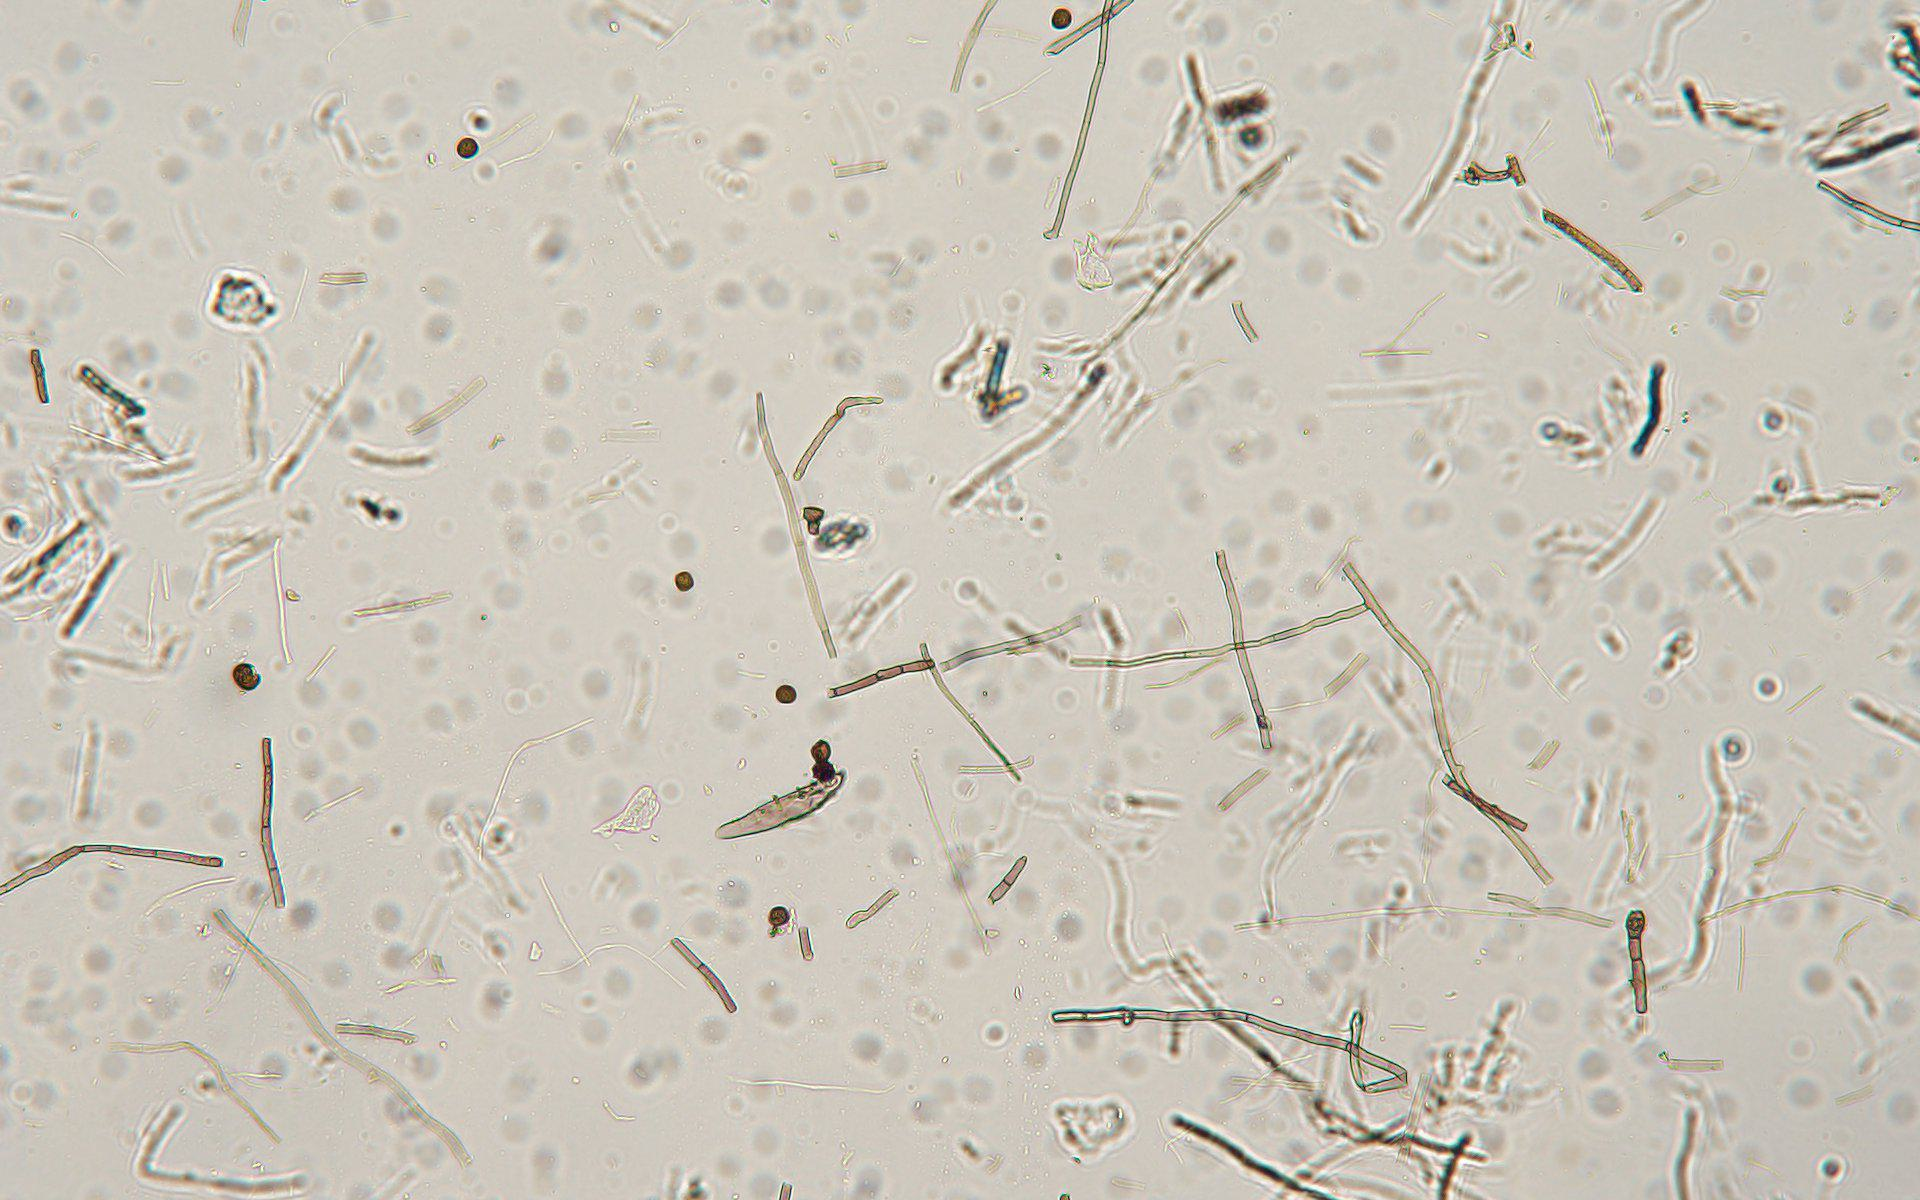dbb_spore: (715, 770, 845, 843)
shs_spore: (231, 664, 261, 691), (456, 138, 480, 160), (809, 738, 831, 759), (767, 906, 788, 928), (1051, 8, 1073, 29), (675, 570, 694, 593), (775, 684, 798, 704)
